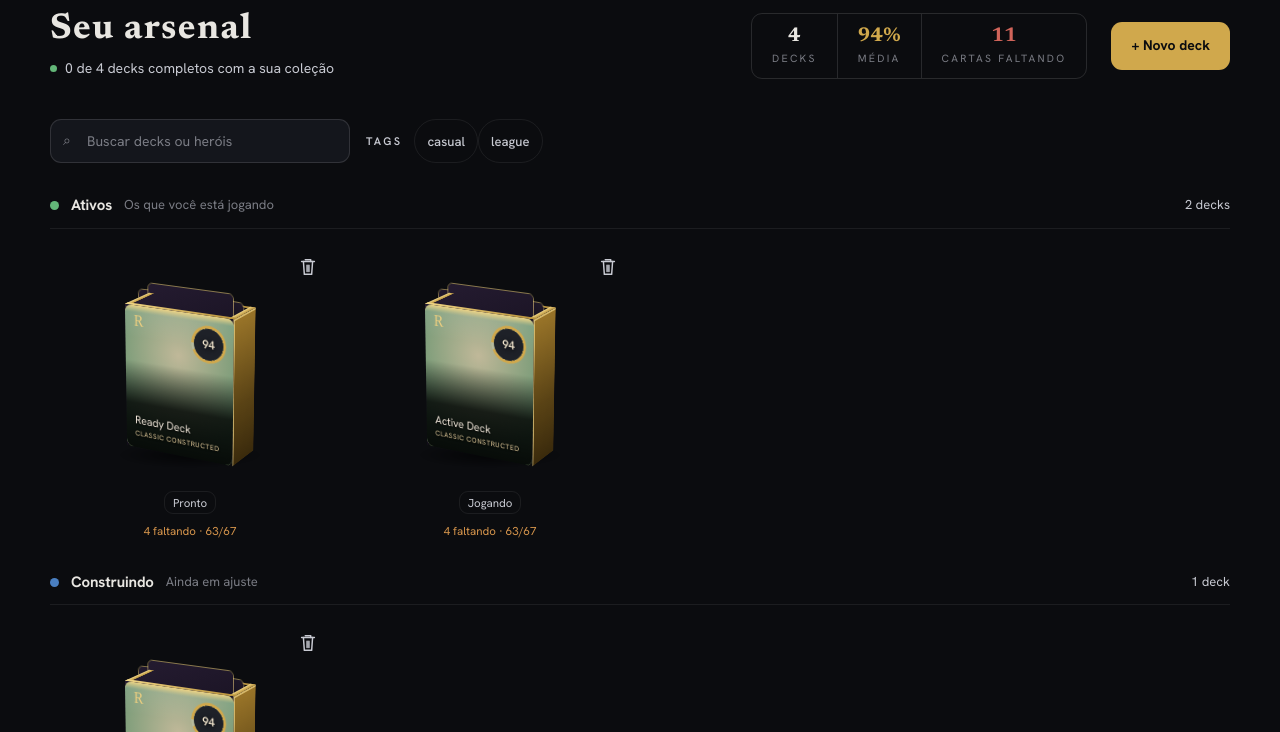
Test: Home route › says so when the filters match nothing
The width and height of the screenshot is (1280, 732).
Type "zzz" into the search field labelled "Buscar decks ou heróis" at (200, 142), box [50,120,350,164]
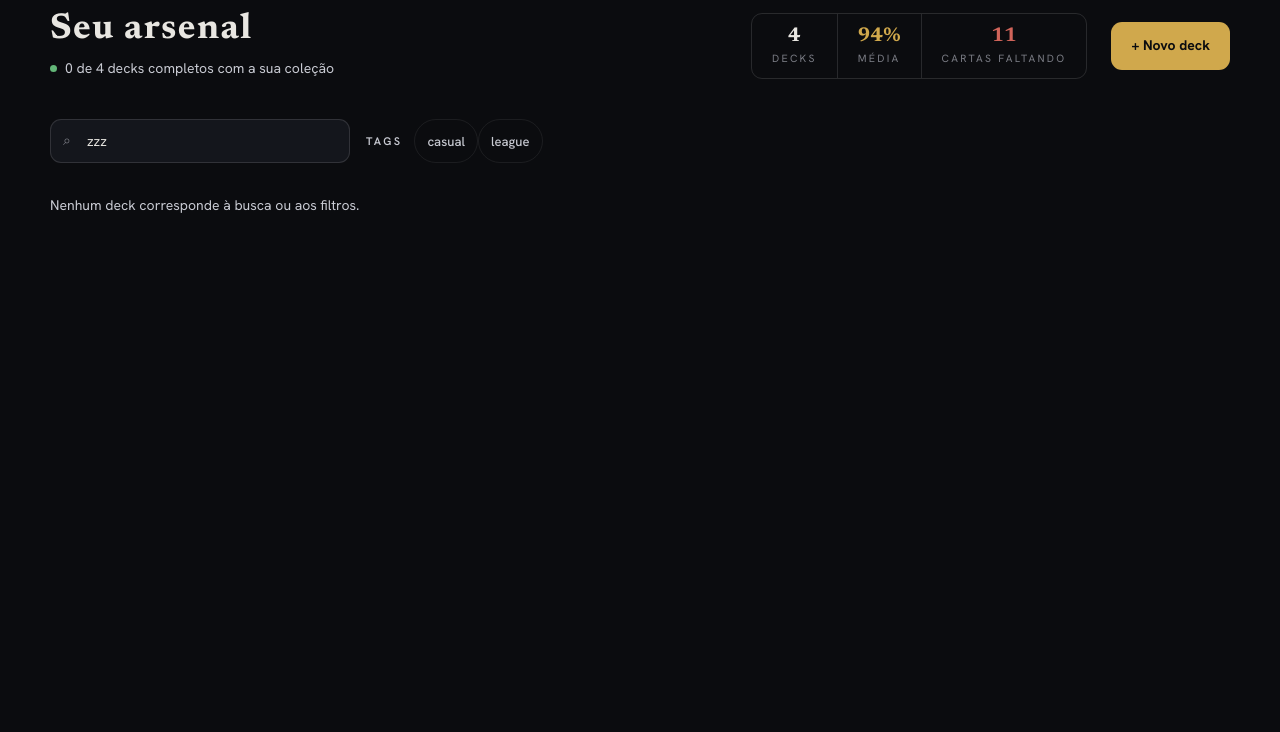
Now the text "Nenhum deck corresponde à busca ou aos filtros." is shown, box [50,196,359,214]
Now no the heading "Ativos" are shown
